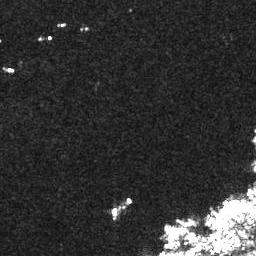ship: (106, 197, 134, 219), (36, 34, 53, 42), (2, 66, 14, 74), (57, 21, 66, 28)
